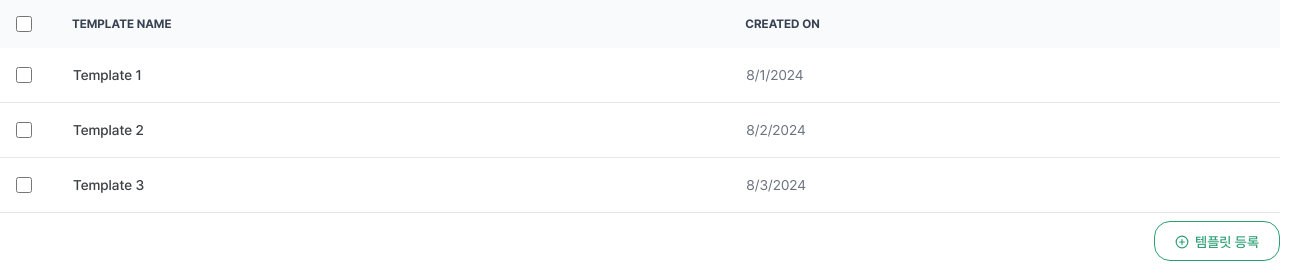
Test case: Table 컴포넌트 단위 테스트 › 전체 선택 체크박스를 해제하면 모든 템플릿이 선택 해제되어야 한다.
Click the checkbox named "Select all checkboxes" at point(24, 24), box [16, 16, 32, 32]
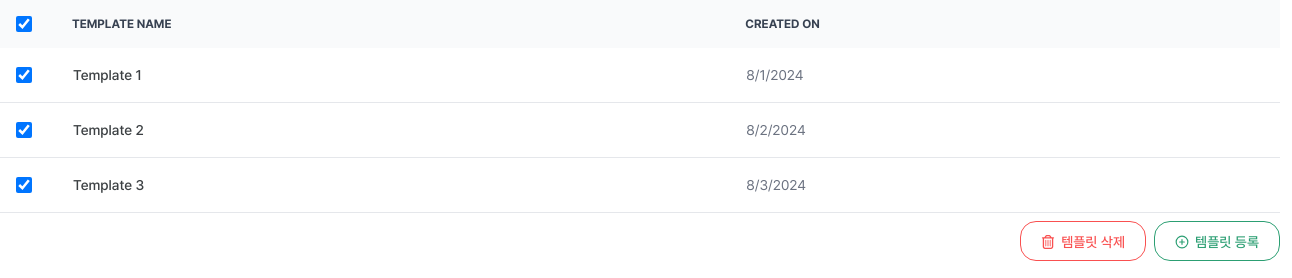
Click the checkbox named "Select all checkboxes" at point(24, 24), box [16, 16, 32, 32]
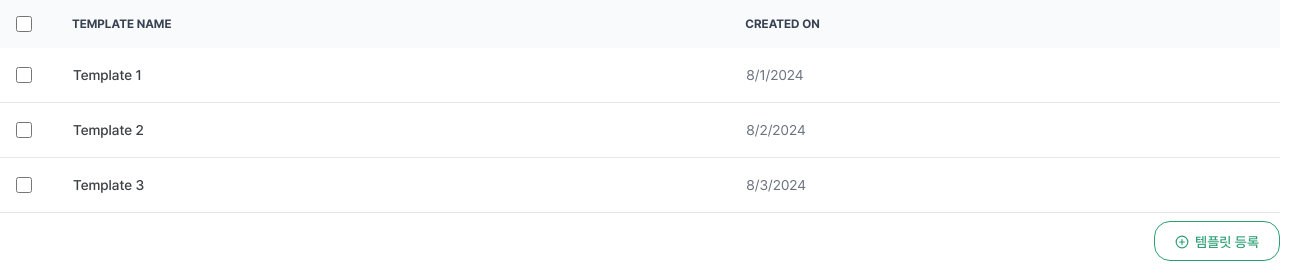
Expected: the checkbox named "Select all checkboxes" is not checked, [16, 16, 32, 32]
Expected: the checkbox next to "Template 1" is not checked, [16, 67, 32, 83]
Expected: the checkbox next to "Template 2" is not checked, [16, 122, 32, 138]
